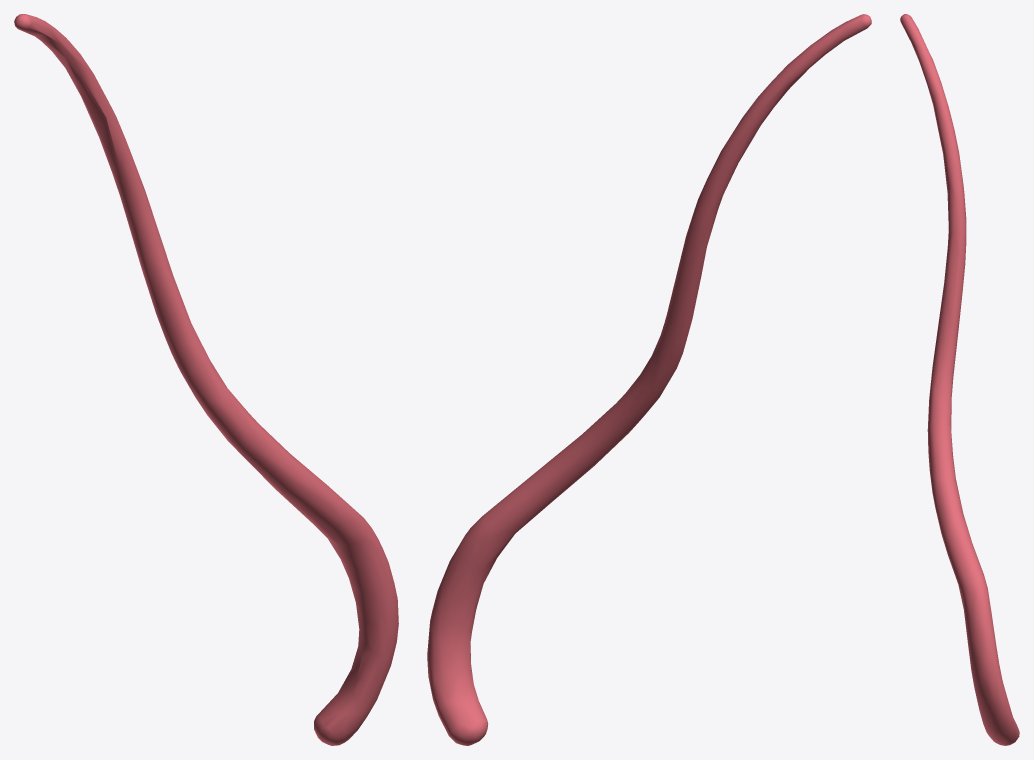
File: fma50481_fj1670m.glb
The picture shows the model from 3 angles, left to right: view 1: azimuth 30°, elevation 25°; view 2: azimuth 150°, elevation 25°; view 3: azimuth 270°, elevation 25°; orthographic projection. The views are drawn at different scales.
Visible parts, largest first — view 1: FMA50481_FJ1670M; view 2: FMA50481_FJ1670M; view 3: FMA50481_FJ1670M.
Part boxes in pixels (left/top/right/bottom): FMA50481_FJ1670M: left=14, top=14, right=398, bottom=745; FMA50481_FJ1670M: left=427, top=14, right=871, bottom=745; FMA50481_FJ1670M: left=900, top=14, right=1019, bottom=745.
Size of the model in its own units: 0.0142 by 0.0269 by 0.00484.
